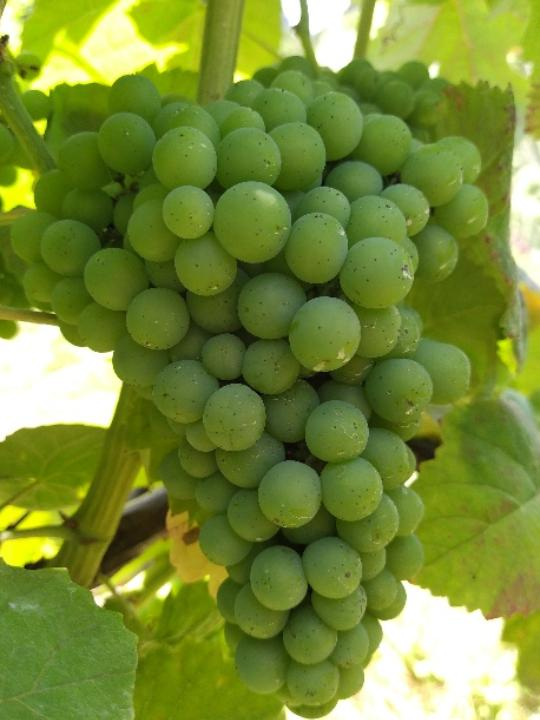grape: (13, 70, 489, 720)
